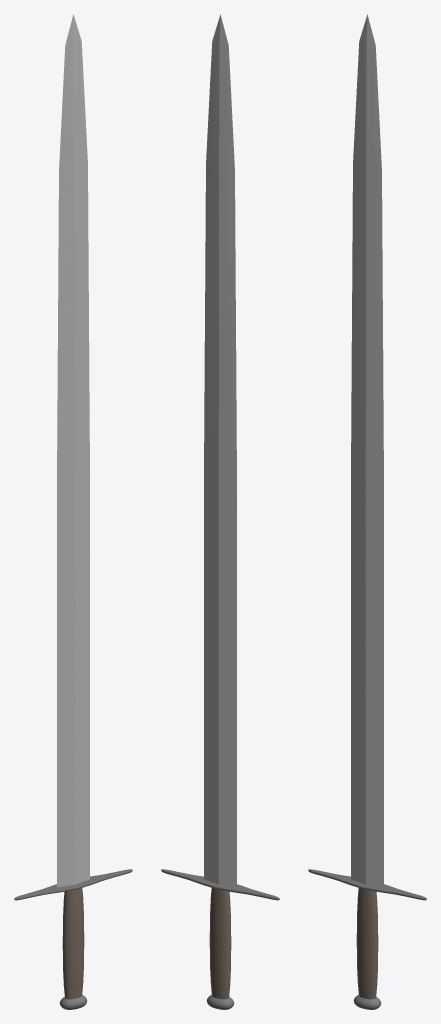
The model's file is AnkaliaSword.FBX.
3 views of the same model, side by side, from view 1: azimuth 30°, elevation 25°; view 2: azimuth 150°, elevation 25°; view 3: azimuth 330°, elevation 25° (orthographic).
Parts seen in each view (by area): view 1: Blade; view 2: Blade; view 3: Blade.
Boxes of the visible parts, box(x1,y1,x2,y2) form: Blade: box(14, 14, 132, 1009); Blade: box(161, 14, 279, 1009); Blade: box(308, 14, 426, 1009).
Size of the model in its own units: 3.93 by 31.49 by 0.5737.
Materials: 1 (1 with a texture image).
